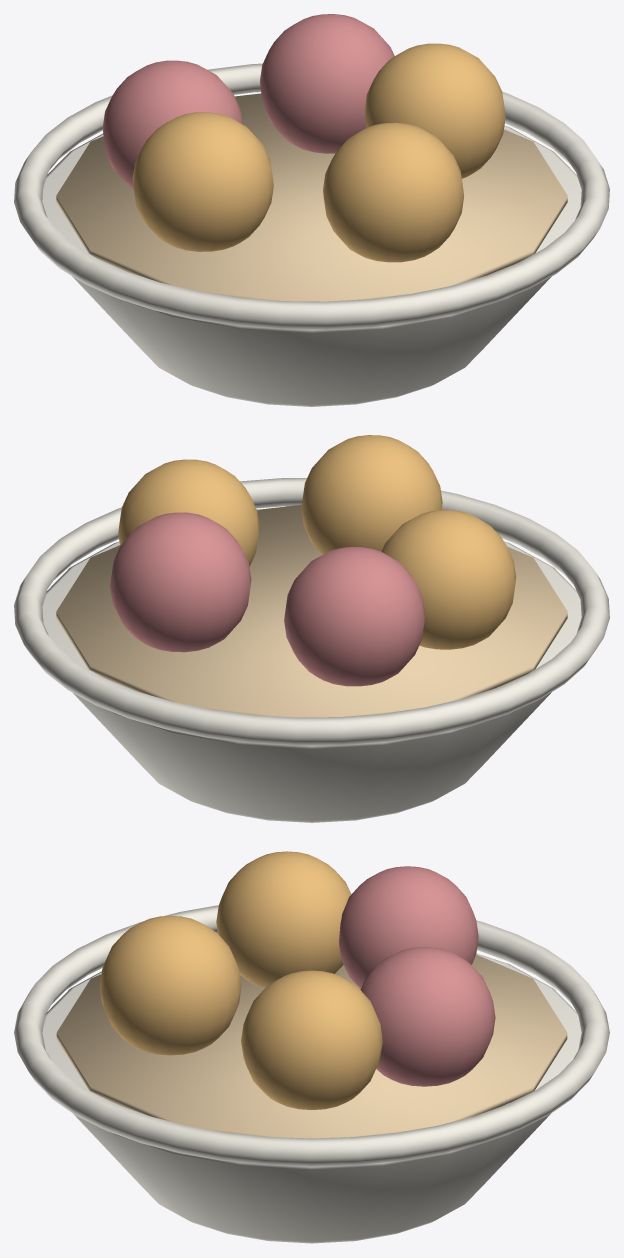
Rendered from atelier-fruit-bowl.glb.
The picture shows the model from 3 angles, top to bottom: view 1: azimuth 30°, elevation 25°; view 2: azimuth 150°, elevation 25°; view 3: azimuth 270°, elevation 25°; orthographic projection.
Visible parts, largest first — view 1: ceramic.076, artGold.016, accent.040, flower.003; view 2: ceramic.076, accent.040, artGold.016, flower.003; view 3: ceramic.076, artGold.016, accent.040, flower.003.
Part boxes in pixels (box(x1,y1,x2,y2)): ceramic.076: box(14, 63, 609, 406); artGold.016: box(132, 43, 505, 262); accent.040: box(56, 93, 567, 301); flower.003: box(102, 14, 394, 189); ceramic.076: box(14, 478, 609, 822); accent.040: box(56, 504, 567, 717); artGold.016: box(118, 435, 516, 649); flower.003: box(110, 512, 425, 686); ceramic.076: box(14, 905, 609, 1243); artGold.016: box(99, 851, 382, 1109); accent.040: box(56, 954, 567, 1138); flower.003: box(339, 866, 495, 1086).
Size of the model in its own units: 0.42 by 0.2 by 0.42.
